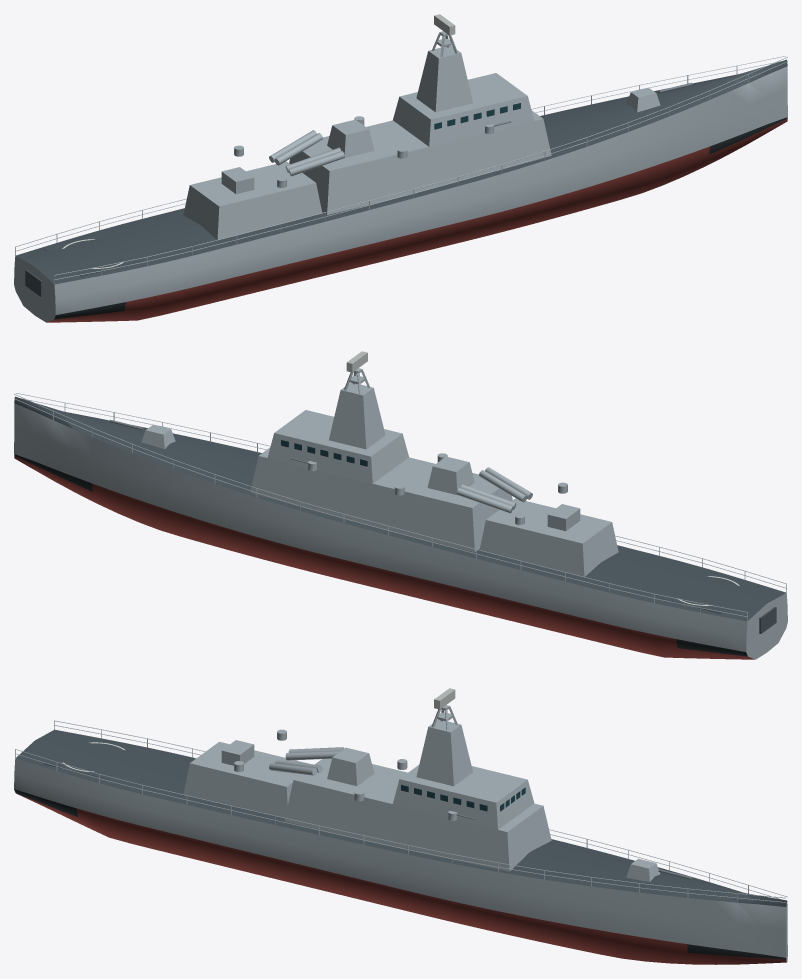
The model's file is pla_fsg_type056a.glb.
3 views of the same model, one above another, from view 1: azimuth 30°, elevation 25°; view 2: azimuth 150°, elevation 25°; view 3: azimuth 330°, elevation 25° (orthographic).
Parts seen in each view (by area): view 1: naval_paint, deck_non_skid, antifouling, boot_topping; view 2: naval_paint, deck_non_skid, antifouling, boot_topping; view 3: naval_paint, deck_non_skid, antifouling, boot_topping, glazing.
Boxes of the visible parts, box(x1,y1,x2,y2) form: naval_paint: box(14, 31, 787, 322); deck_non_skid: box(16, 59, 787, 296); antifouling: box(47, 119, 787, 322); boot_topping: box(54, 117, 787, 319); naval_paint: box(14, 368, 787, 659); deck_non_skid: box(14, 396, 785, 633); antifouling: box(14, 456, 754, 659); boot_topping: box(14, 454, 747, 656); naval_paint: box(14, 705, 787, 962); deck_non_skid: box(15, 730, 786, 906); antifouling: box(18, 794, 786, 964); boot_topping: box(14, 789, 786, 959); glazing: box(401, 784, 525, 811).
Size of the model in its own units: 10 by 2.72 by 1.23.
